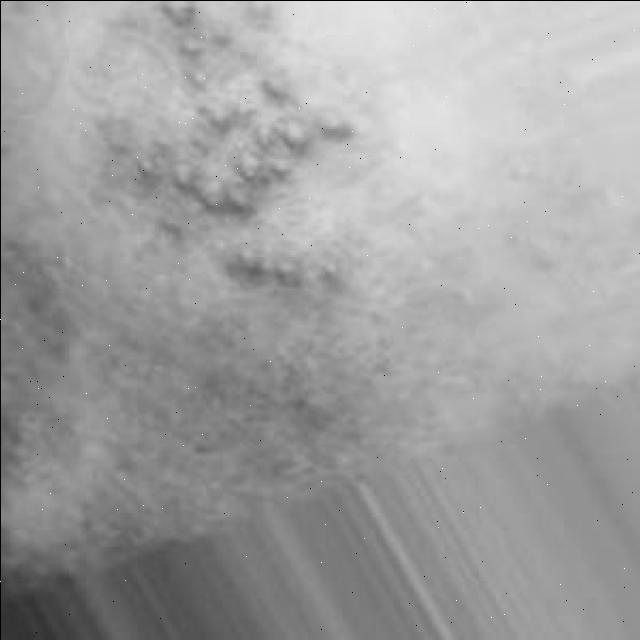Shingles: (126, 0, 352, 289)
